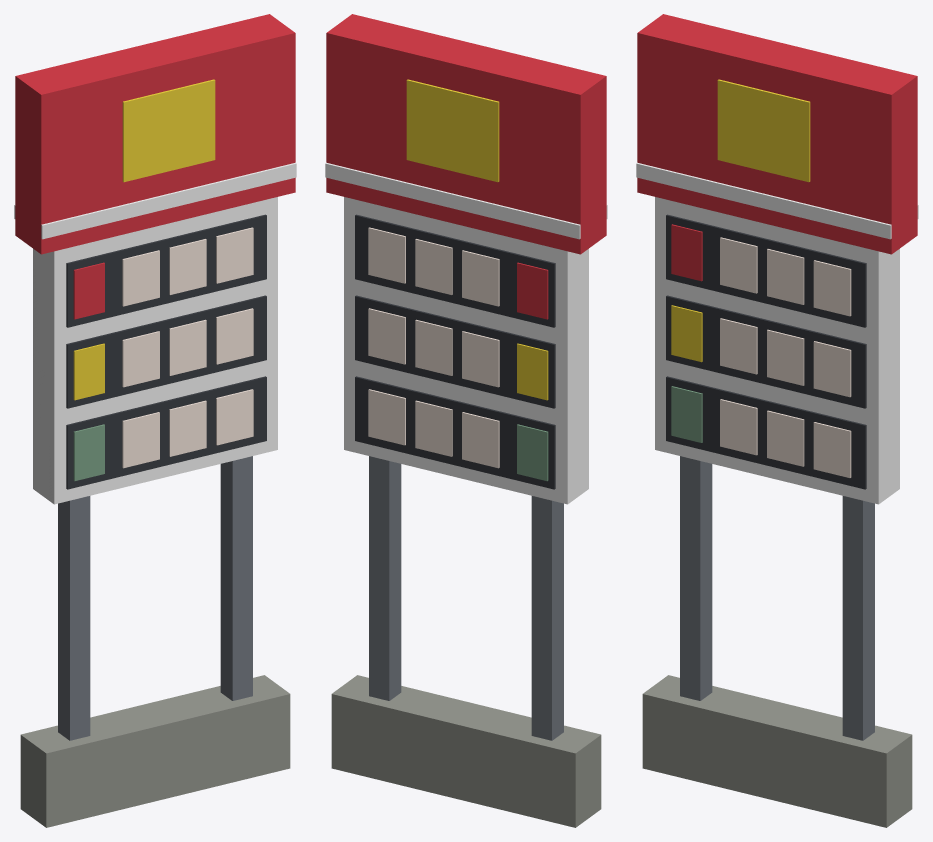
The model's file is site_sign.fbx.
3 renders of one model, left to right at view 1: azimuth 30°, elevation 25°; view 2: azimuth 150°, elevation 25°; view 3: azimuth 330°, elevation 25°, orthographic.
Visible parts, largest first — view 1: a1019/0/site_sign; view 2: a1019/0/site_sign; view 3: a1019/0/site_sign.
Part boxes in pixels (left/top/right/bottom): a1019/0/site_sign: left=14, top=14, right=296, bottom=827; a1019/0/site_sign: left=325, top=14, right=607, bottom=827; a1019/0/site_sign: left=636, top=14, right=918, bottom=827.
Bounding box in the file's own units: 2.5 × 6.9 × 0.48.
